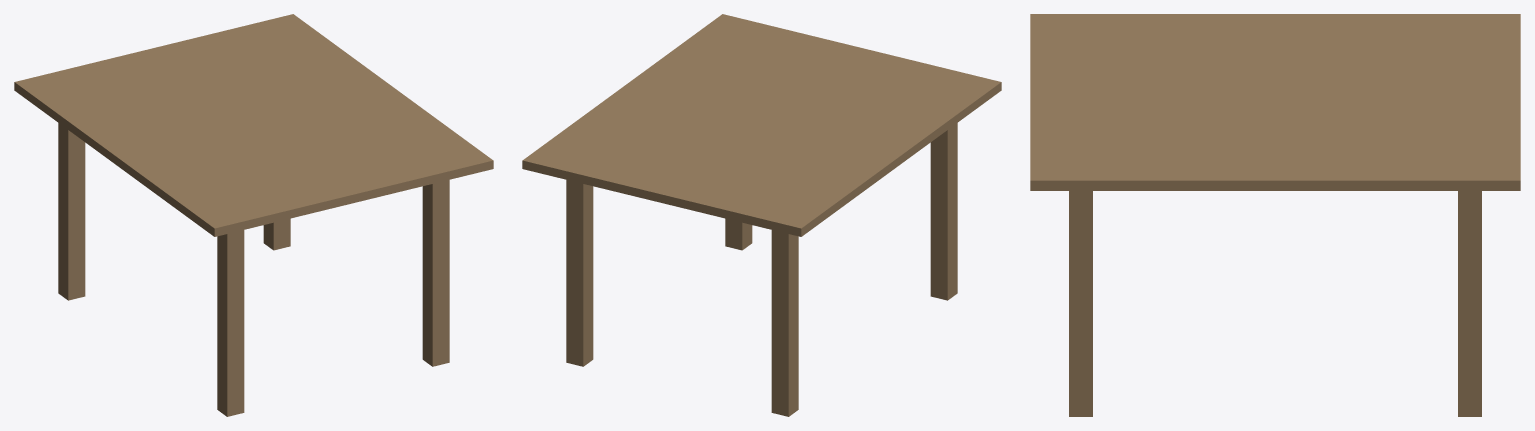
The model's file is table.glb.
The picture shows the model from 3 angles, left to right: view 1: azimuth 30°, elevation 25°; view 2: azimuth 150°, elevation 25°; view 3: azimuth 270°, elevation 25°; orthographic projection. The views are drawn at different scales.
Visible parts, largest first — view 1: table; view 2: table; view 3: table.
Boxes of the visible parts, x1,y1,x2,y2 form: table: [14, 14, 493, 416]; table: [522, 14, 1001, 416]; table: [1030, 14, 1520, 416].
Bounding box in the file's own units: 1.32 × 0.9388 × 1.65.
